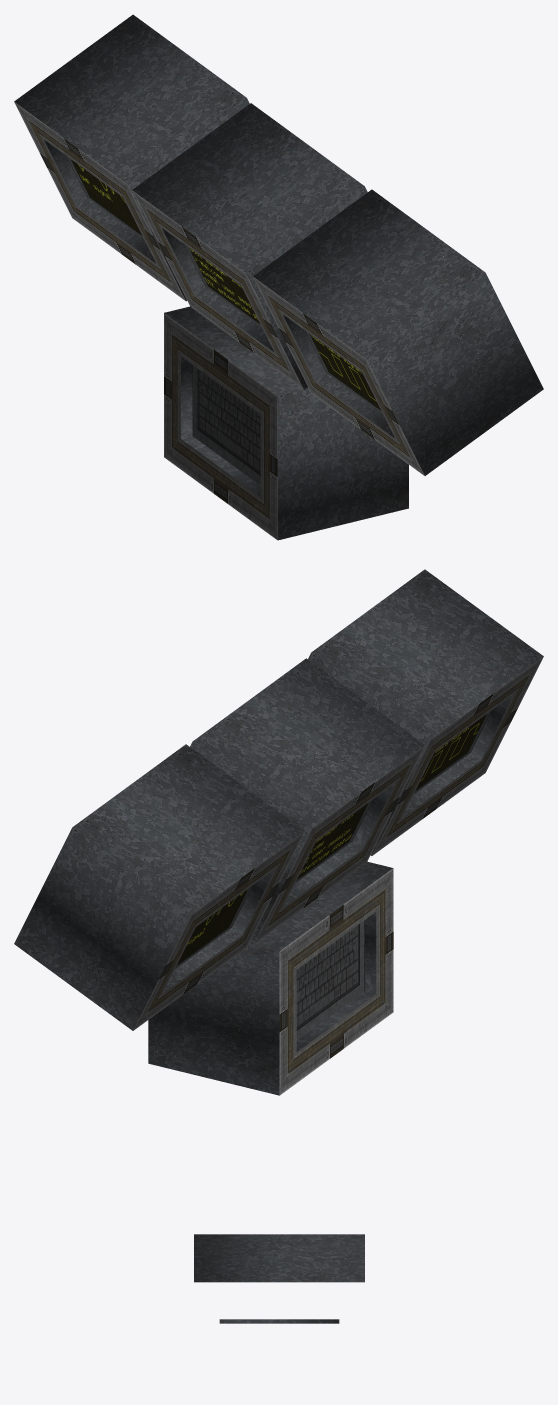
Rendered from terminal.glb.
The picture shows the model from 3 angles, top to bottom: view 1: azimuth 30°, elevation 25°; view 2: azimuth 150°, elevation 25°; view 3: azimuth 270°, elevation 25°; orthographic projection. The views are drawn at different scales.
Parts seen in each view (by area): view 1: trak3_base1.jpg__, grate1a.jpg__, trak3_screen.jpg__; view 2: trak3_base1.jpg__, grate1a.jpg__, trak3_screen.jpg__; view 3: trak3_base1.jpg__.
Part boxes in pixels (left/top/right/bottom): trak3_base1.jpg__: left=14, top=14, right=543, bottom=540; grate1a.jpg__: left=14, top=102, right=424, bottom=539; trak3_screen.jpg__: left=66, top=156, right=382, bottom=485; trak3_base1.jpg__: left=14, top=569, right=543, bottom=1095; grate1a.jpg__: left=133, top=657, right=543, bottom=1095; trak3_screen.jpg__: left=175, top=710, right=491, bottom=1040; trak3_base1.jpg__: left=194, top=1234, right=364, bottom=1323.
Bounding box in the file's own units: 6.04 × 10.8 × 20.67.
5 materials, 5 textured.
